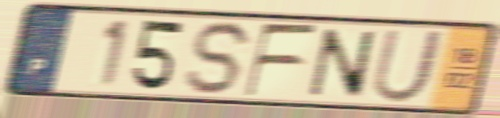1: (99, 18, 130, 90)
5: (129, 17, 186, 92)
F: (241, 22, 321, 100)
N: (306, 26, 378, 101)
S: (182, 18, 258, 97)
U: (368, 26, 449, 106)
